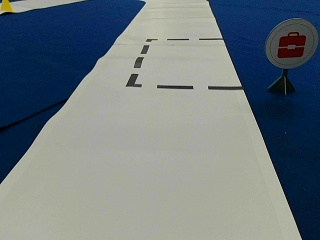company: (267, 19, 318, 68)
